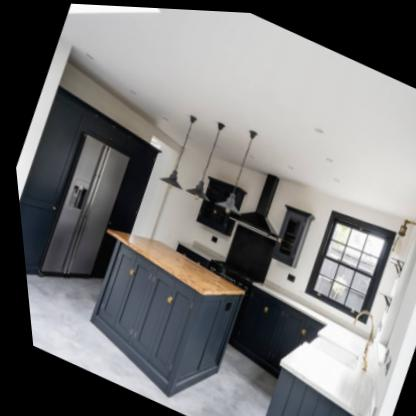Window: (297, 205, 392, 323)
